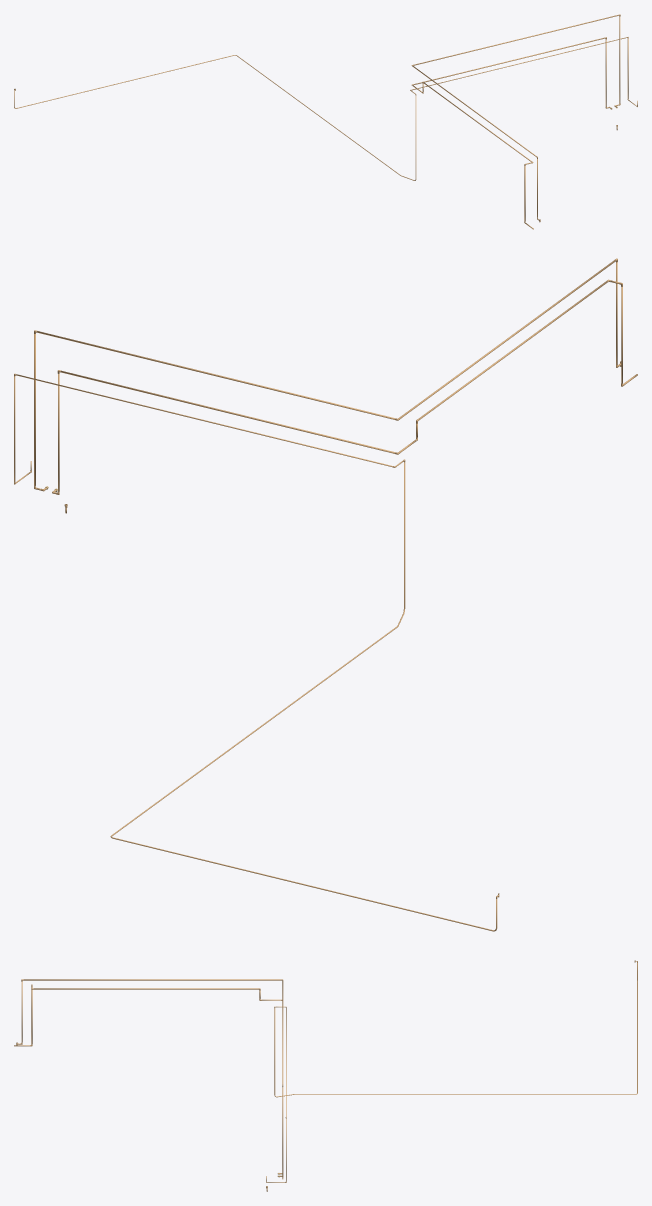
File: slab_pipes_supply__water_heater-garage_tankless+garage_tankless_noncondensing_and_plumbing-copper.glb
The picture shows the model from 3 angles, top to bottom: view 1: azimuth 30°, elevation 25°; view 2: azimuth 150°, elevation 25°; view 3: azimuth 270°, elevation 25°; orthographic projection. The views are drawn at different scales.
Parts seen in each view (by area): view 1: pipe_supply_recirc_return__copper, pipe_supply_hot_wh_tankless__copper, pipe_supply_cold_wh_tankless__copper; view 2: pipe_supply_recirc_return__copper, pipe_supply_cold_wh_tankless__copper, pipe_supply_hot_wh_tankless__copper; view 3: pipe_supply_cold_wh_tankless__copper, pipe_supply_recirc_return__copper, pipe_supply_hot_wh_tankless__copper.
Part boxes in pixels (<box>): pipe_supply_recirc_return__copper: <box>14,37,637,180</box>; pipe_supply_hot_wh_tankless__copper: <box>412,37,610,229</box>; pipe_supply_cold_wh_tankless__copper: <box>412,15,620,219</box>; pipe_supply_recirc_return__copper: <box>14,374,498,931</box>; pipe_supply_cold_wh_tankless__copper: <box>34,259,620,490</box>; pipe_supply_hot_wh_tankless__copper: <box>54,280,637,493</box>; pipe_supply_cold_wh_tankless__copper: <box>18,979,283,1177</box>; pipe_supply_recirc_return__copper: <box>266,962,637,1182</box>; pipe_supply_hot_wh_tankless__copper: <box>14,985,280,1174</box>.
Bounding box in the file's own units: 10.79 × 2.63 × 12.59.
